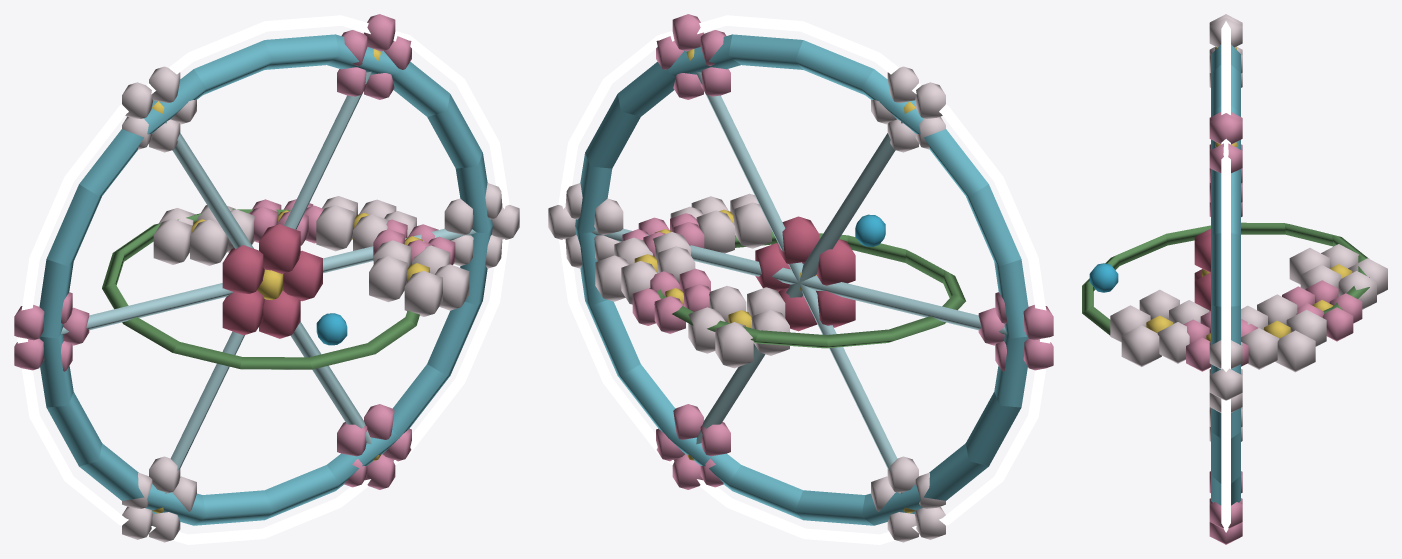
The model's file is umeko_p1.glb.
3 renders of one model, left to right at view 1: azimuth 30°, elevation 25°; view 2: azimuth 150°, elevation 25°; view 3: azimuth 270°, elevation 25°, orthographic. The views are drawn at different scales.
Visible parts, largest first — view 1: p1_wheel_body, p1_crown_body, p1_wheel_glow; view 2: p1_wheel_body, p1_crown_body, p1_wheel_glow; view 3: p1_crown_body, p1_wheel_body, p1_wheel_glow.
Boxes of the visible parts, bbox=[...] form: p1_wheel_body: bbox=[14, 14, 519, 542]; p1_crown_body: bbox=[102, 196, 469, 369]; p1_wheel_glow: bbox=[17, 15, 509, 544]; p1_wheel_body: bbox=[548, 14, 1053, 542]; p1_crown_body: bbox=[595, 193, 965, 368]; p1_wheel_glow: bbox=[558, 15, 1050, 544]; p1_crown_body: bbox=[1082, 222, 1387, 372]; p1_wheel_body: bbox=[1194, 14, 1242, 544]; p1_wheel_glow: bbox=[1221, 21, 1230, 532].
Size of the model in its own units: 0.5639 by 0.552 by 0.3255.
